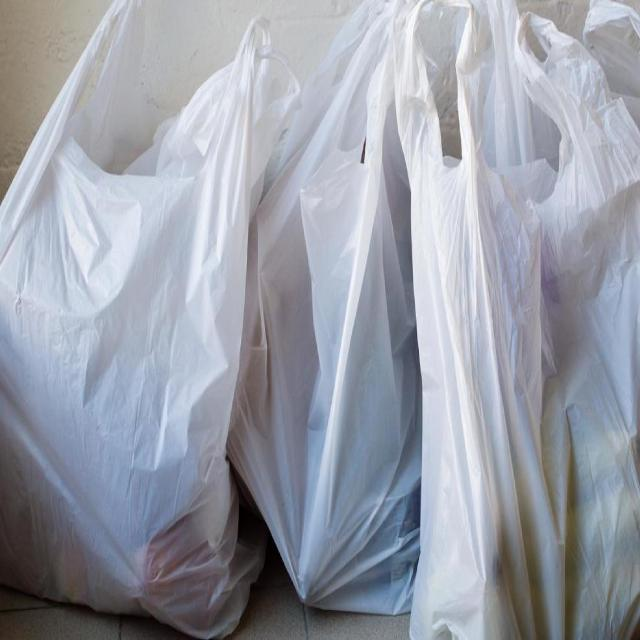plastic_bag: (8, 5, 280, 640), (385, 12, 640, 640), (238, 5, 491, 620)
